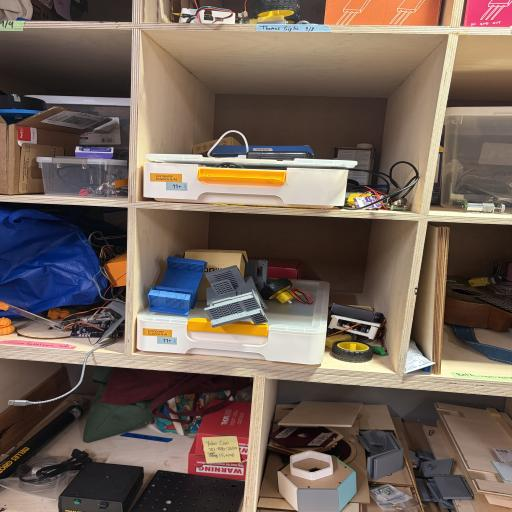Green-Lego: (369, 346, 388, 356)
